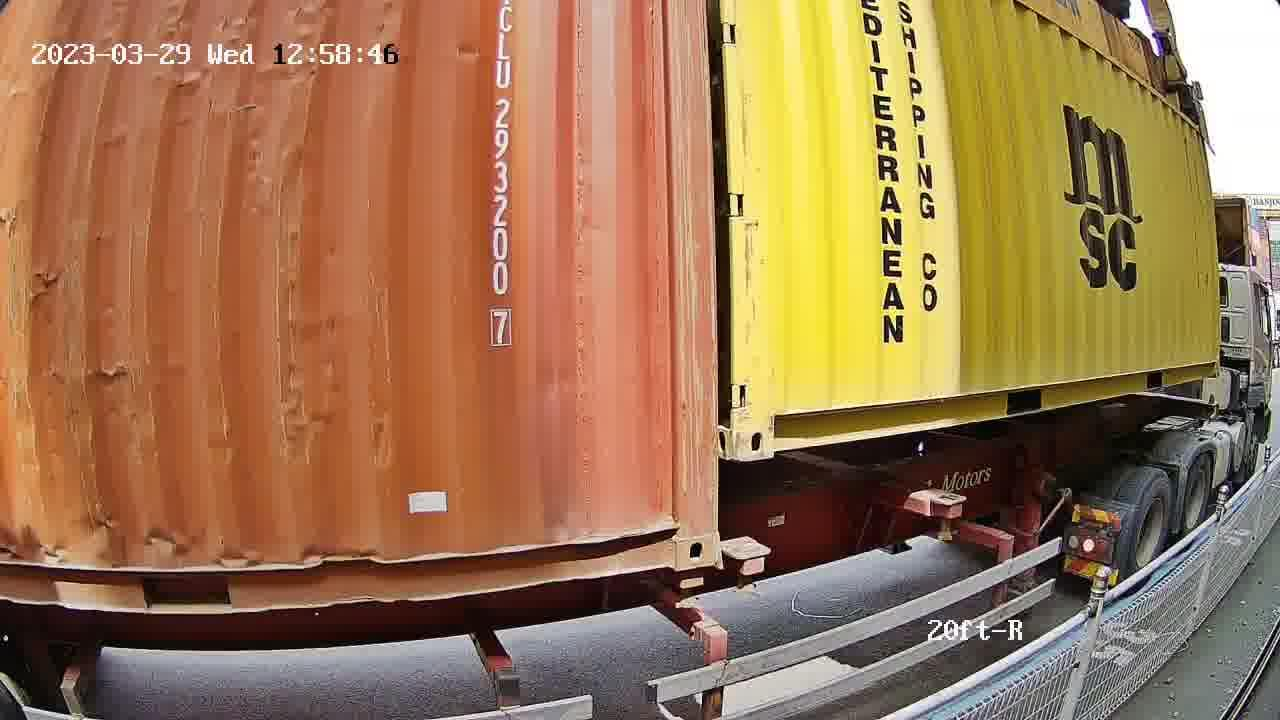Cone: (722, 539, 770, 592), (668, 567, 711, 610)
Hole_L: (735, 383, 803, 460)
Hole_R: (640, 498, 718, 570)
Tire: (1119, 471, 1171, 588), (1179, 448, 1214, 545)
